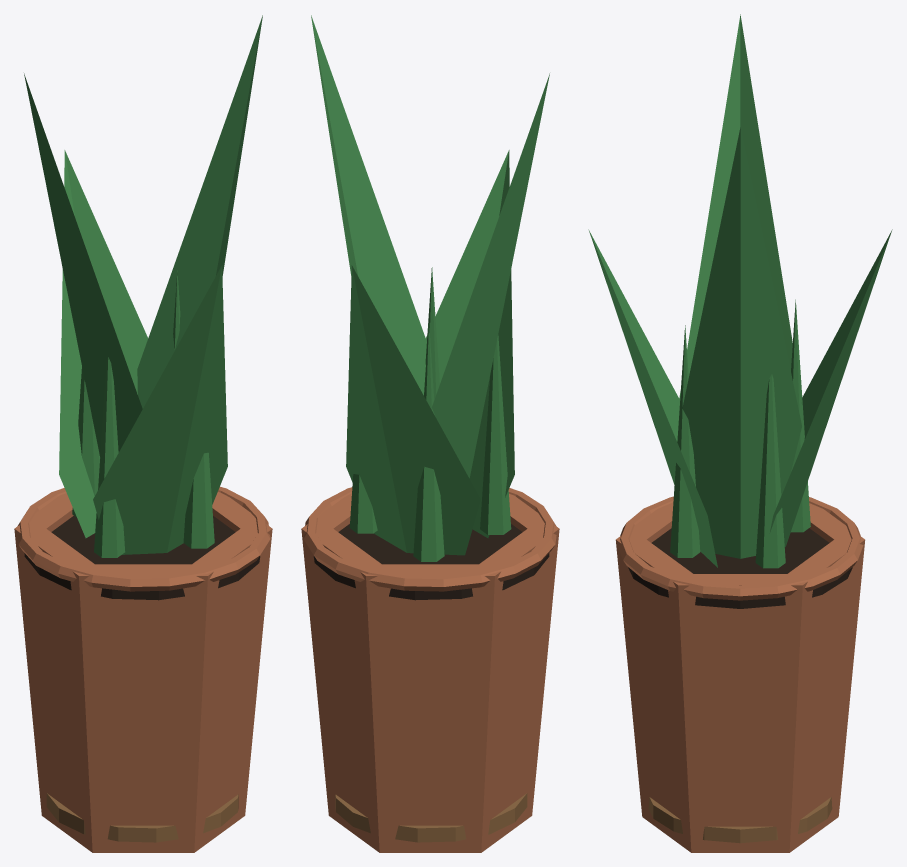
The model's file is pottedPlant.glb.
The picture shows the model from 3 angles, left to right: view 1: azimuth 30°, elevation 25°; view 2: azimuth 150°, elevation 25°; view 3: azimuth 270°, elevation 25°; orthographic projection. The views are drawn at different scales.
Visible parts, largest first — view 1: pottedPlant(Clone), plant; view 2: pottedPlant(Clone), plant; view 3: pottedPlant(Clone), plant.
Boxes of the visible parts, x1,y1,x2,y2 form: pottedPlant(Clone): (14, 486, 272, 852); plant: (24, 15, 262, 557); pottedPlant(Clone): (301, 487, 559, 852); plant: (311, 15, 549, 561); pottedPlant(Clone): (615, 496, 865, 852); plant: (588, 14, 892, 568).
Bounding box in the file's own units: 0.2121 × 0.654 × 0.2415.
